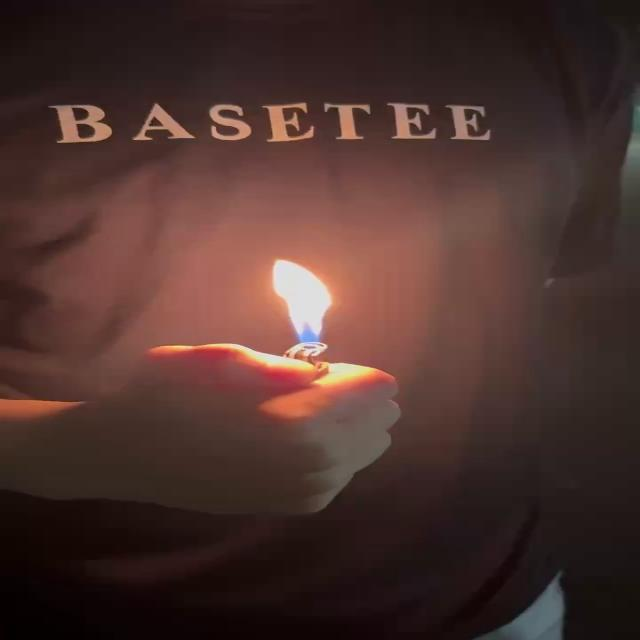Fire: (270, 257, 342, 351)
